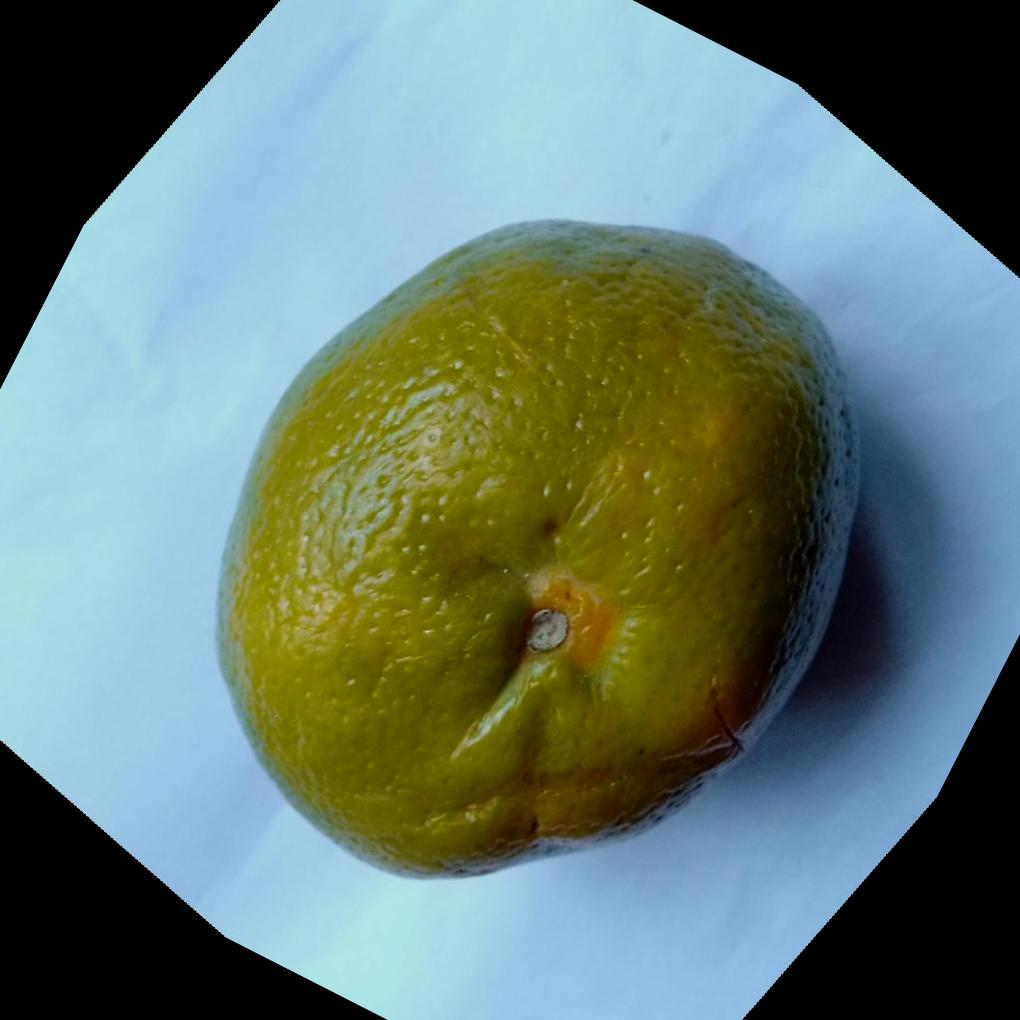FreshGuava: (210, 218, 861, 883)
